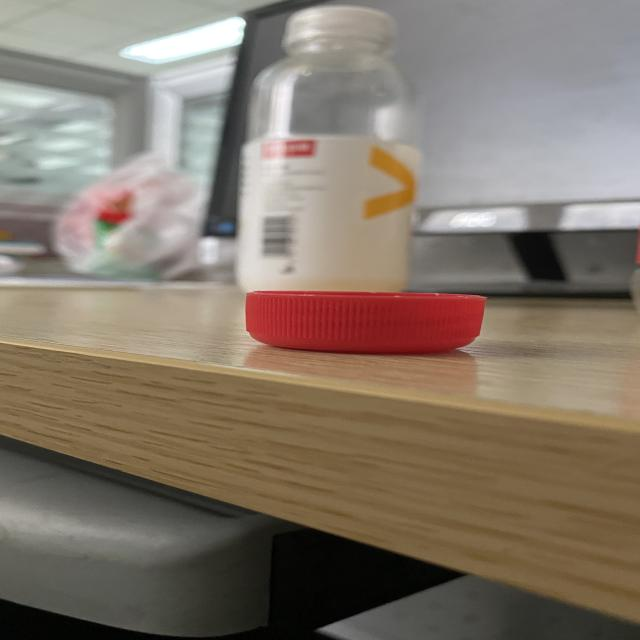Anorganik: (226, 2, 436, 300)
